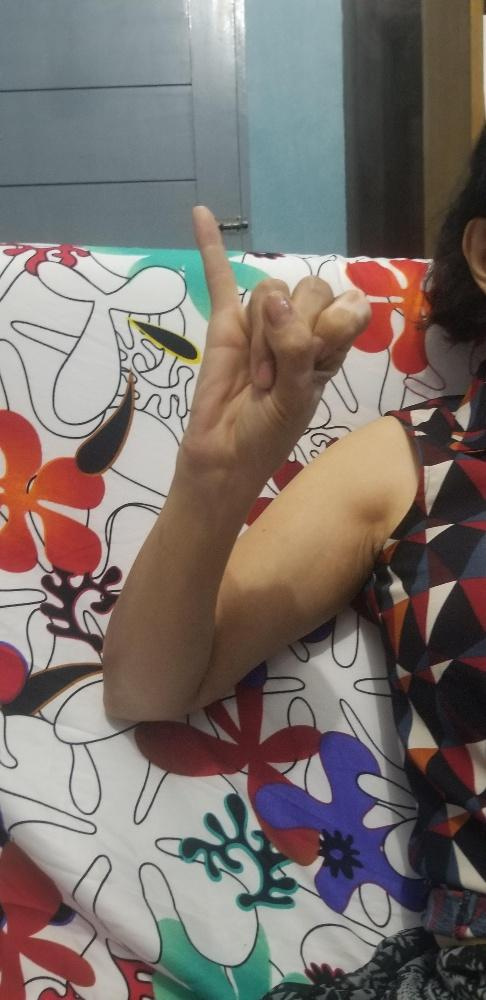i: (178, 203, 372, 469)
